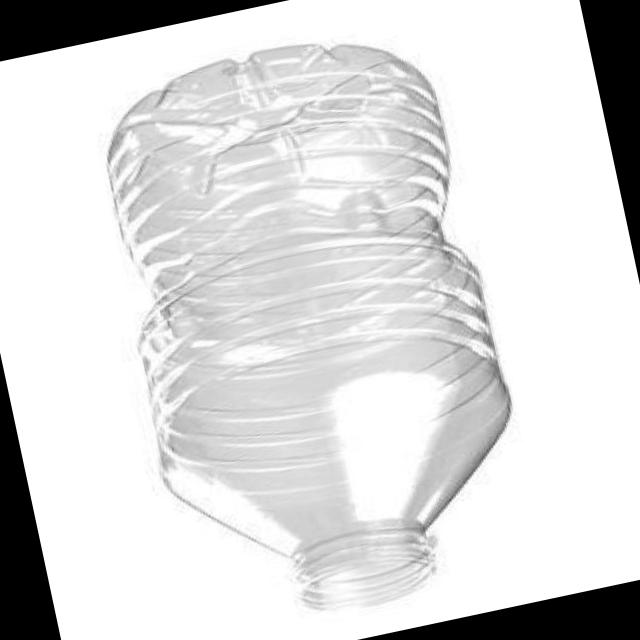plastic_bottle: (75, 14, 546, 640)
